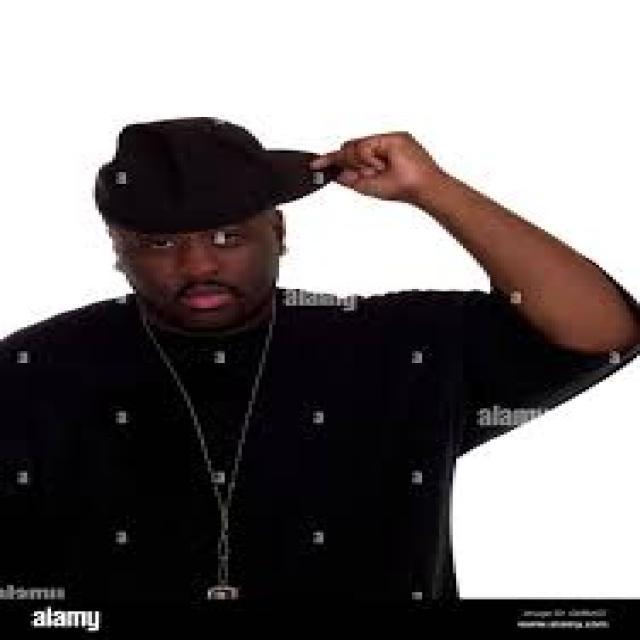cap: (85, 117, 347, 325)
